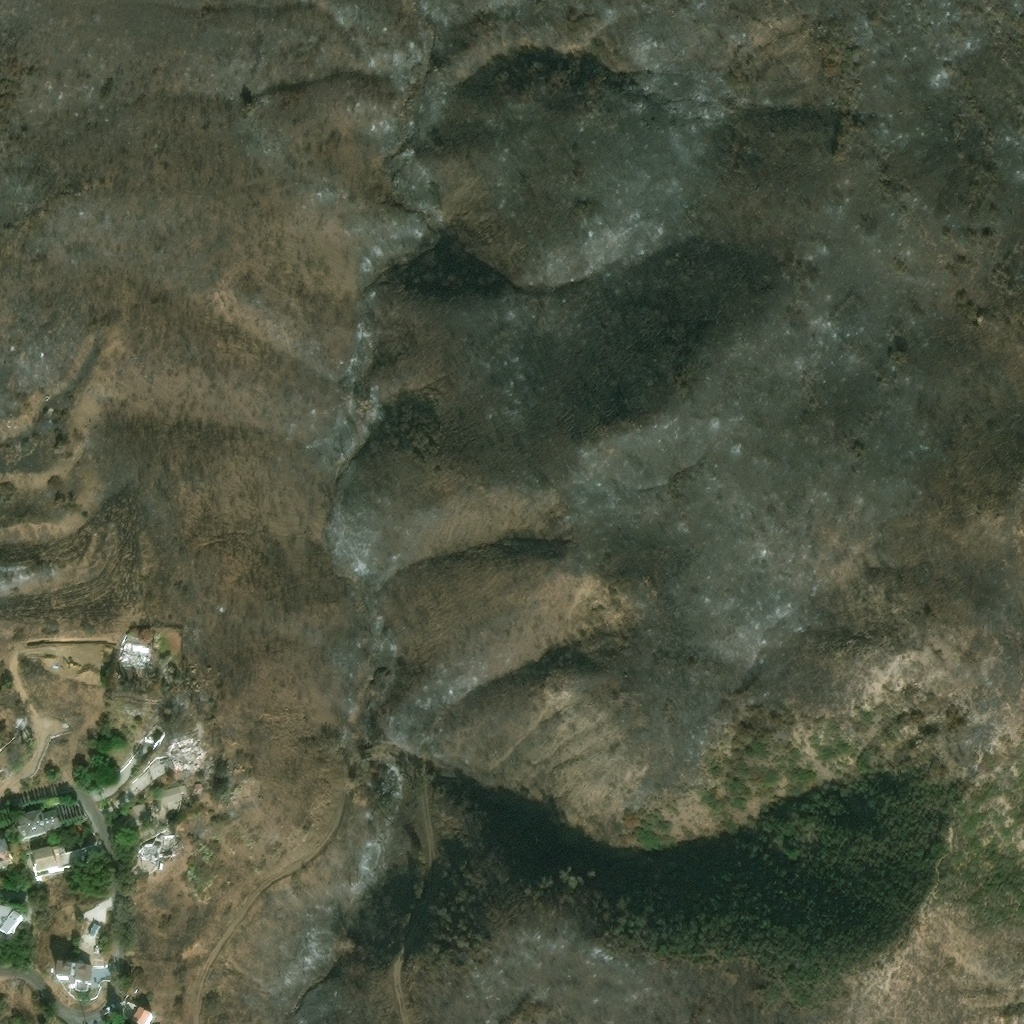0 no-damage: (22, 836, 88, 877), (14, 807, 60, 839), (52, 959, 92, 990), (160, 782, 191, 806), (129, 1004, 154, 1023), (119, 993, 137, 1013), (132, 801, 149, 818), (194, 782, 201, 789)
2 major-damage: (115, 637, 156, 670)
3 destroyed: (167, 732, 198, 768), (141, 831, 172, 857), (142, 722, 164, 743)
